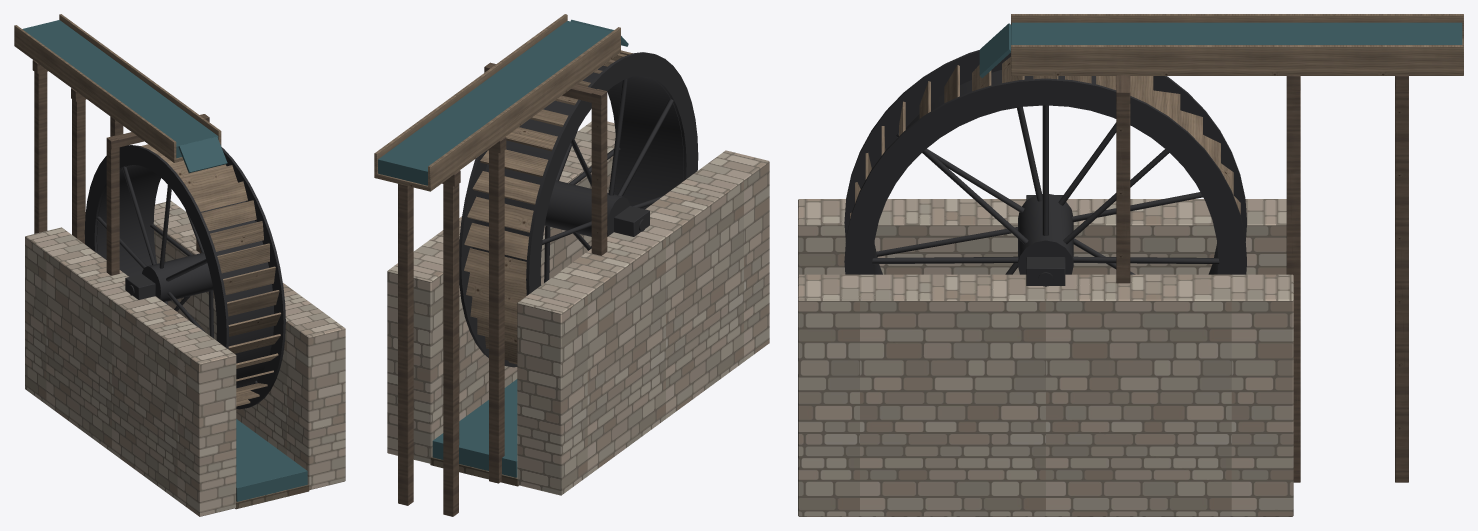
The model's file is overshot-water-wheel.glb.
The picture shows the model from 3 angles, left to right: view 1: azimuth 30°, elevation 25°; view 2: azimuth 150°, elevation 25°; view 3: azimuth 270°, elevation 25°; orthographic projection. The views are drawn at different scales.
Parts seen in each view (by area): view 1: Overshot_Water_Wheel, Wheel; view 2: Overshot_Water_Wheel, Wheel; view 3: Overshot_Water_Wheel, Wheel.
Part boxes in pixels (<box>): Overshot_Water_Wheel: <box>14,14,345,516</box>; Wheel: <box>84,144,285,409</box>; Overshot_Water_Wheel: <box>374,14,769,516</box>; Wheel: <box>459,50,698,367</box>; Overshot_Water_Wheel: <box>798,14,1463,516</box>; Wheel: <box>844,50,1246,274</box>.
Bounding box in the file's own units: 3.1 × 6.24 × 8.6.
Materials: 6 (4 with a texture image).
